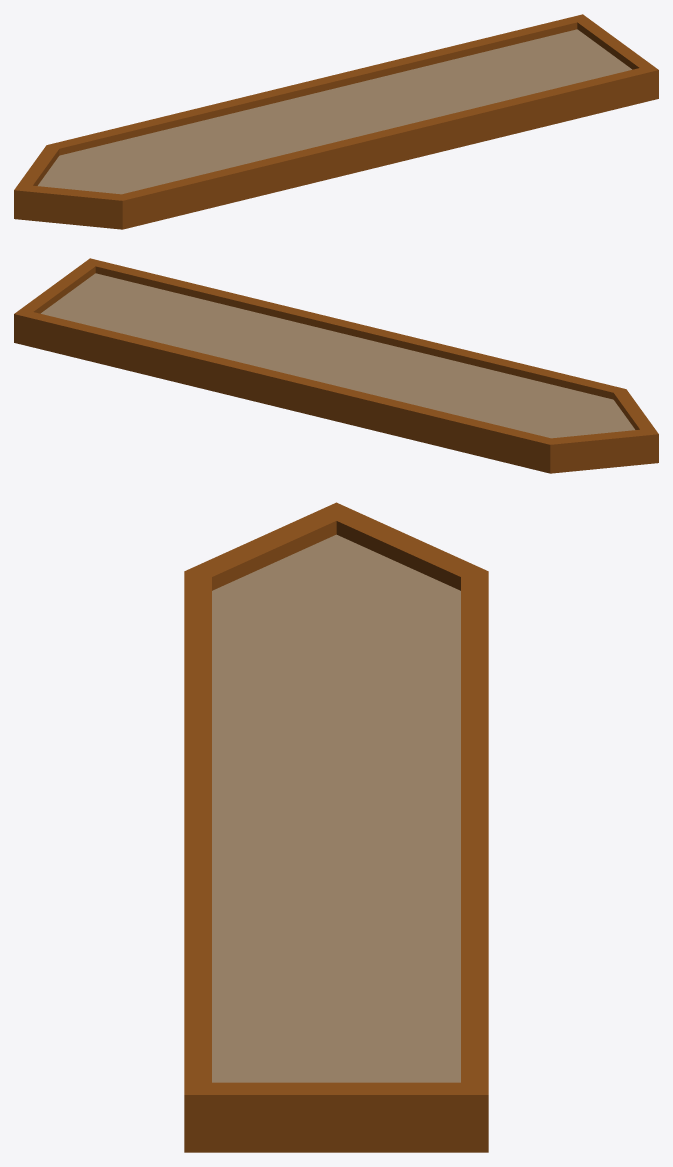
File: DirectionMarker.fbx
3 views of the same model, one above another, from view 1: azimuth 30°, elevation 25°; view 2: azimuth 150°, elevation 25°; view 3: azimuth 270°, elevation 25° (orthographic). The views are drawn at different scales.
Visible parts, largest first — view 1: Marker; view 2: Marker; view 3: Marker.
Part boxes in pixels (x1,y1,x2,y2): Marker: (14, 14, 658, 229); Marker: (14, 258, 658, 473); Marker: (184, 502, 488, 1152).
Bounding box in the file's own units: 1151 × 52.24 × 250.
